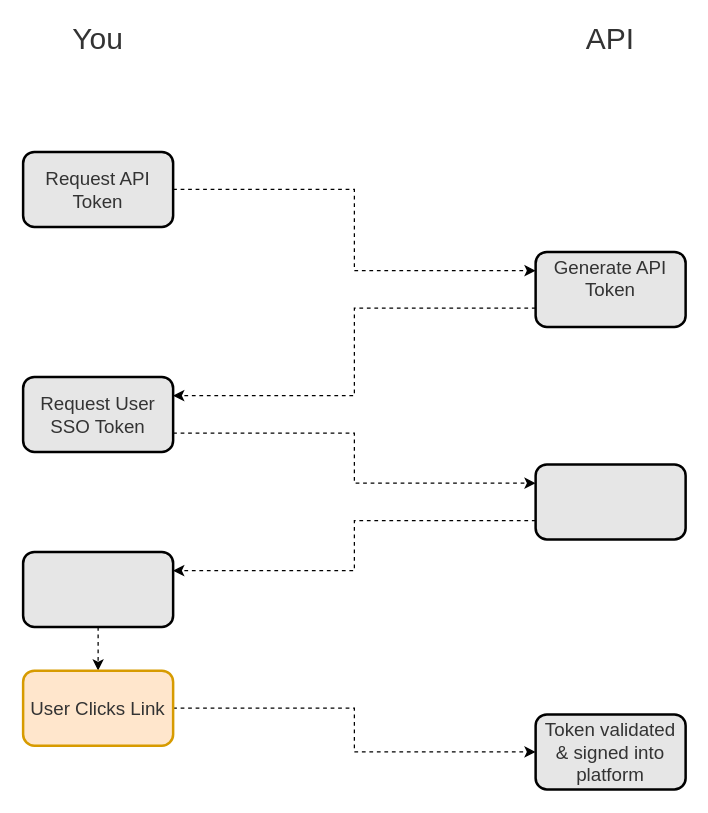
The diagram is 708 pixels wide and 813 high, and some of its shapes have lost their labels. The shapes that lost their labels are listed below. From the top down, each one's box as (x1, y1, x2, y2) in pixels, then its label:
(534, 462, 686, 540): Generate User SSO Token
(21, 550, 174, 628): Create link on website to /sso/{sso-token}
